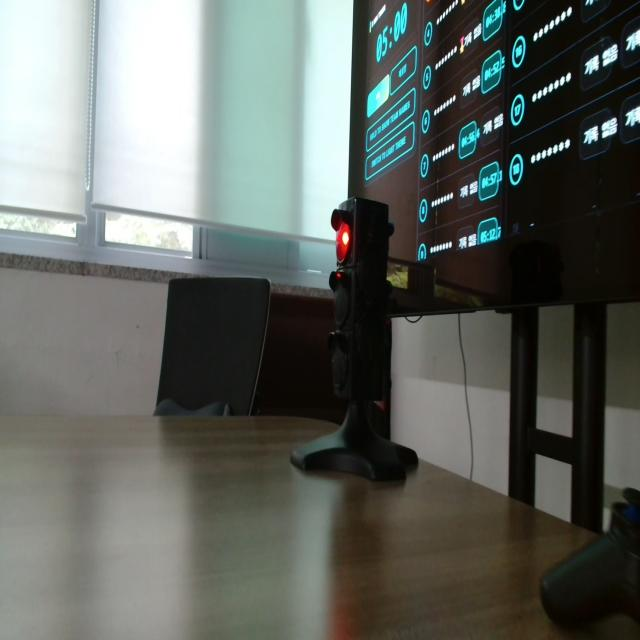red_light: (336, 222, 350, 263), (342, 231, 349, 245)
